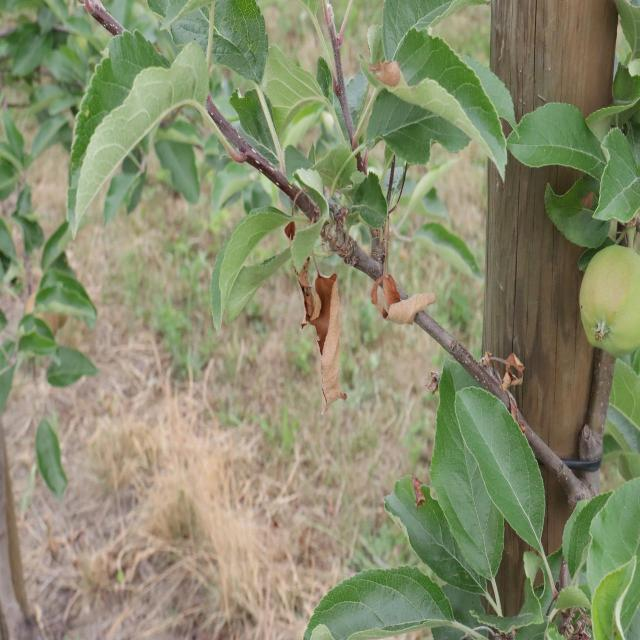-FireBlight-: (300, 252, 350, 410), (374, 252, 426, 324)
